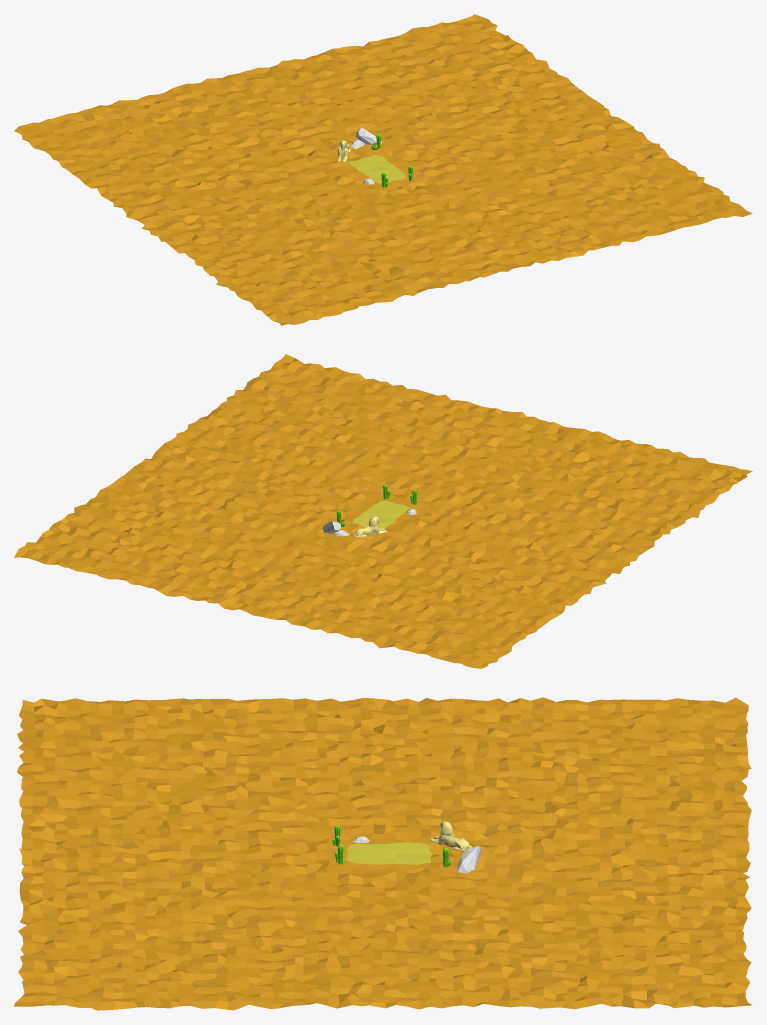
The model's file is Desert_level.fbx.
The picture shows the model from 3 angles, top to bottom: view 1: azimuth 30°, elevation 25°; view 2: azimuth 150°, elevation 25°; view 3: azimuth 270°, elevation 25°; orthographic projection. The views are drawn at different scales.
Visible parts, largest first — view 1: Plane.003; view 2: Plane.003; view 3: Plane.003, Art_-_Sphinx_6pc_110x330x165mm.
Part boxes in pixels (x1=…): Plane.003: x1=14, y1=14, x2=752, y2=325; Plane.003: x1=14, y1=354, x2=752, y2=668; Plane.003: x1=14, y1=697, x2=752, y2=1010; Art_-_Sphinx_6pc_110x330x165mm: x1=430, y1=821, x2=471, y2=851.
Size of the model in its own units: 6105 by 284 by 6109.
